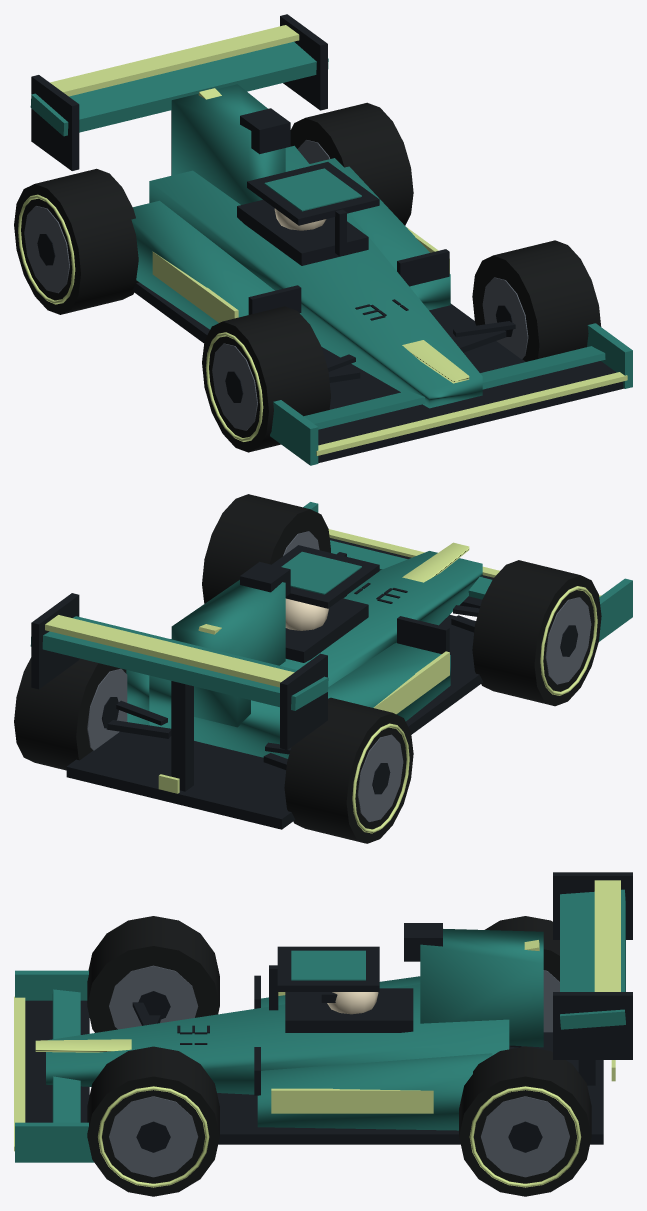
The model's file is verdant-31.glb.
3 renders of one model, top to bottom at view 1: azimuth 30°, elevation 25°; view 2: azimuth 150°, elevation 25°; view 3: azimuth 270°, elevation 25°, orthographic.
Visible parts, largest first — view 1: formula-31, wheel (×4); view 2: formula-31, wheel (×4); view 3: formula-31, wheel (×4).
Boxes of the visible parts, box(x1,y1,x2,y2) form: formula-31: box(30, 14, 632, 465); wheel (×4): box(14, 102, 601, 452); formula-31: box(30, 502, 632, 829); wheel (×4): box(14, 494, 601, 843); formula-31: box(14, 872, 632, 1162); wheel (×4): box(87, 916, 591, 1196).
Bounding box in the file's own units: 3.37 × 1.79 × 5.41.
